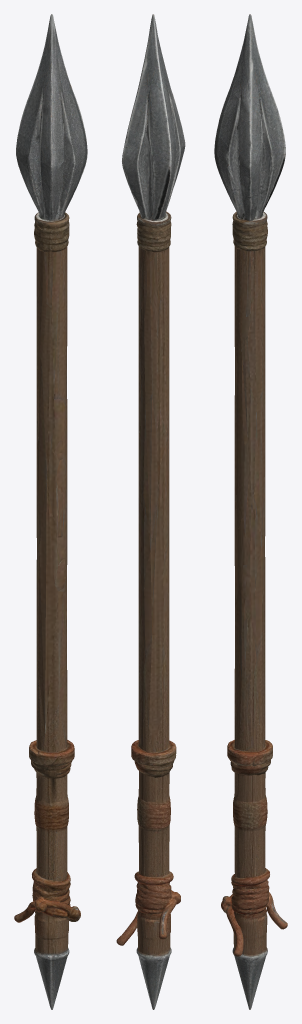
File: spear.fbx
The picture shows the model from 3 angles, left to right: view 1: azimuth 90°, elevation 25°; view 2: azimuth 210°, elevation 25°; view 3: azimuth 270°, elevation 25°; orthographic projection.
Visible parts, largest first — view 1: spear; view 2: spear; view 3: spear.
Boxes of the visible parts, x1,y1,x2,y2 form: spear: [14, 14, 87, 1009]; spear: [116, 14, 185, 1009]; spear: [214, 14, 287, 1009].
Bounding box in the file's own units: 0.4663 × 7 × 0.4685.
1 material, 1 textured.
